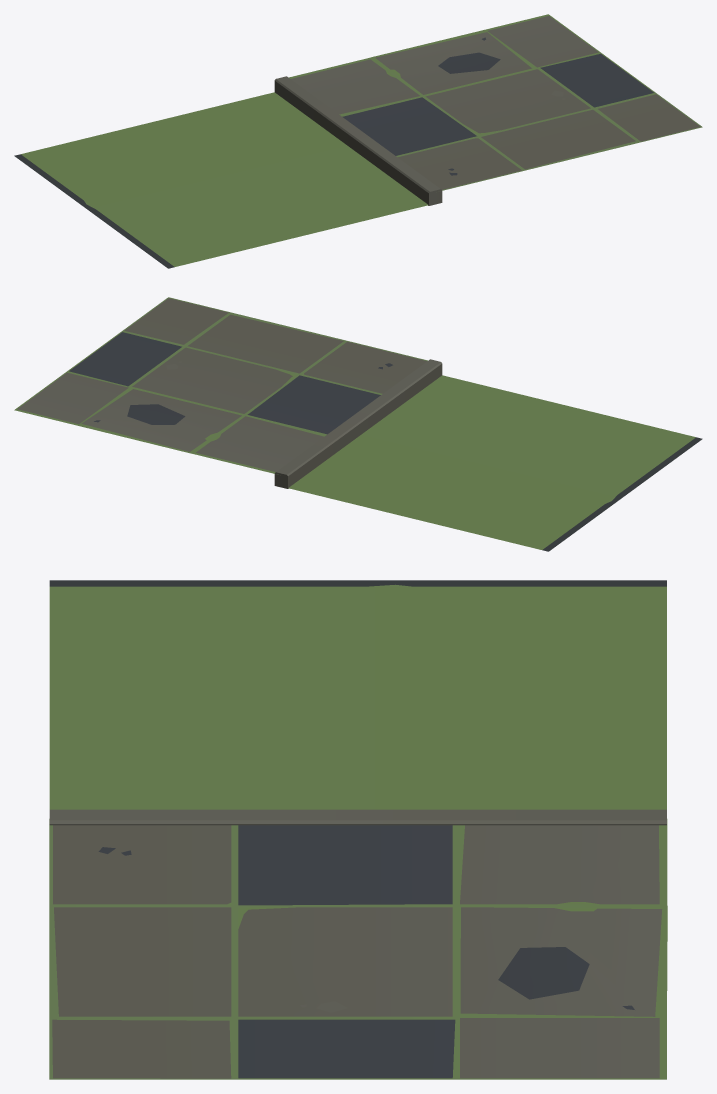
The model's file is Road_07.fbx.
The picture shows the model from 3 angles, top to bottom: view 1: azimuth 30°, elevation 25°; view 2: azimuth 150°, elevation 25°; view 3: azimuth 270°, elevation 25°; orthographic projection. The views are drawn at different scales.
Parts seen in each view (by area): view 1: Road_07; view 2: Road_07; view 3: Road_07.
Boxes of the visible parts, bbox=[...] form: Road_07: bbox=[14, 14, 702, 268]; Road_07: bbox=[14, 297, 702, 551]; Road_07: bbox=[49, 580, 667, 1079].
Size of the model in its own units: 6 by 0.15 by 3.01.
